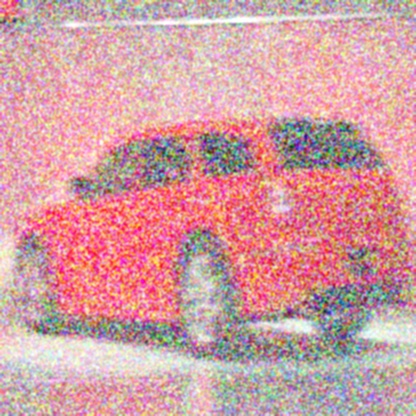Vehicle: (16, 107, 414, 357)
